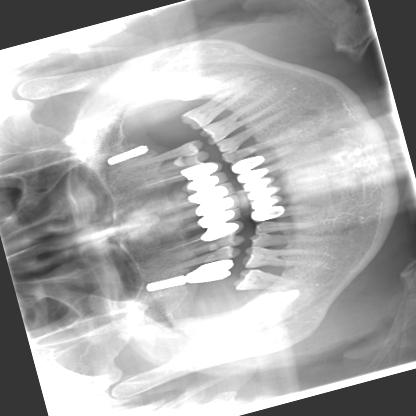ITI: (97, 138, 154, 171), (142, 270, 182, 297)
